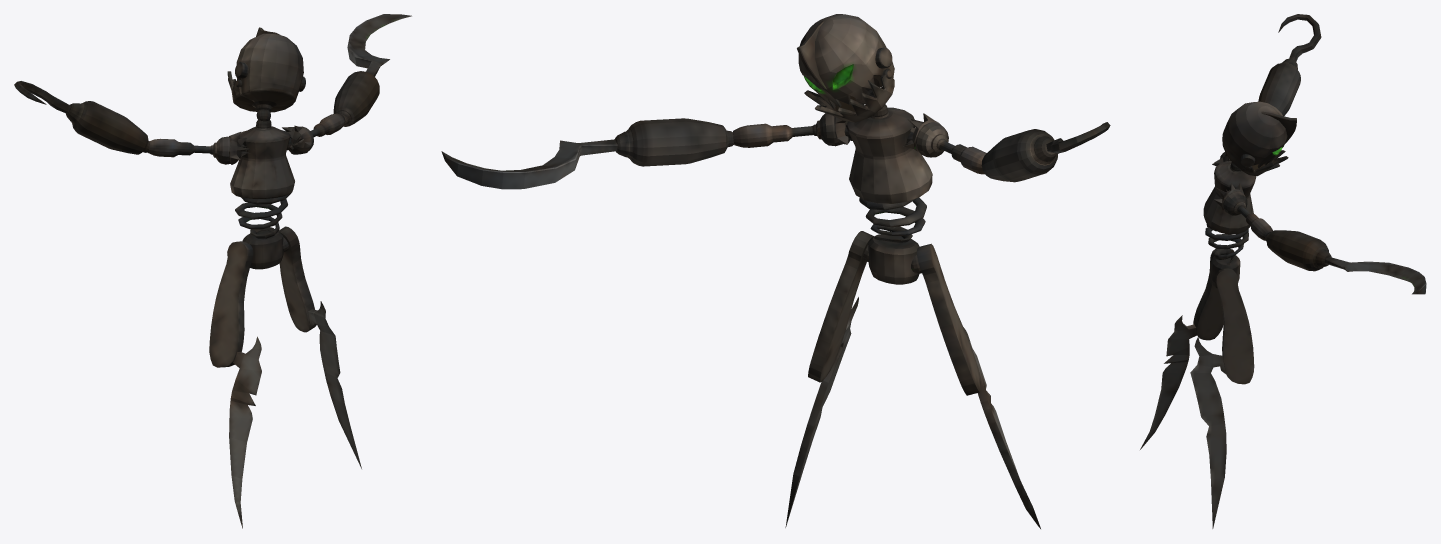
3 views of the same model, side by side, from view 1: azimuth 30°, elevation 25°; view 2: azimuth 150°, elevation 25°; view 3: azimuth 270°, elevation 25° (orthographic). The views are drawn at different scales.
Visible parts, largest first — view 1: Assembled_Plane.008; view 2: Assembled_Plane.008; view 3: Assembled_Plane.008.
Boxes of the visible parts, x1,y1,x2,y2 form: Assembled_Plane.008: (14, 14, 411, 528); Assembled_Plane.008: (441, 14, 1110, 528); Assembled_Plane.008: (1140, 14, 1426, 528).
Bounding box in the file's own units: 4.04 × 3.66 × 2.41.
